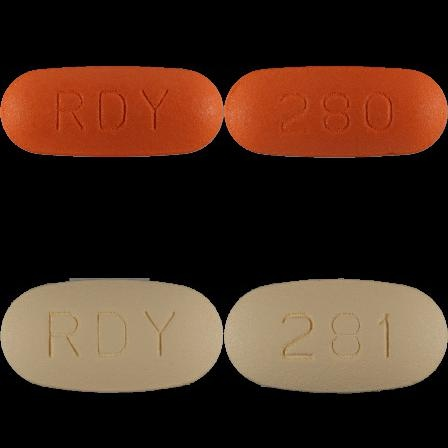55111-280: (0, 0, 224, 224)
